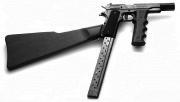gun: (3, 2, 176, 98)
